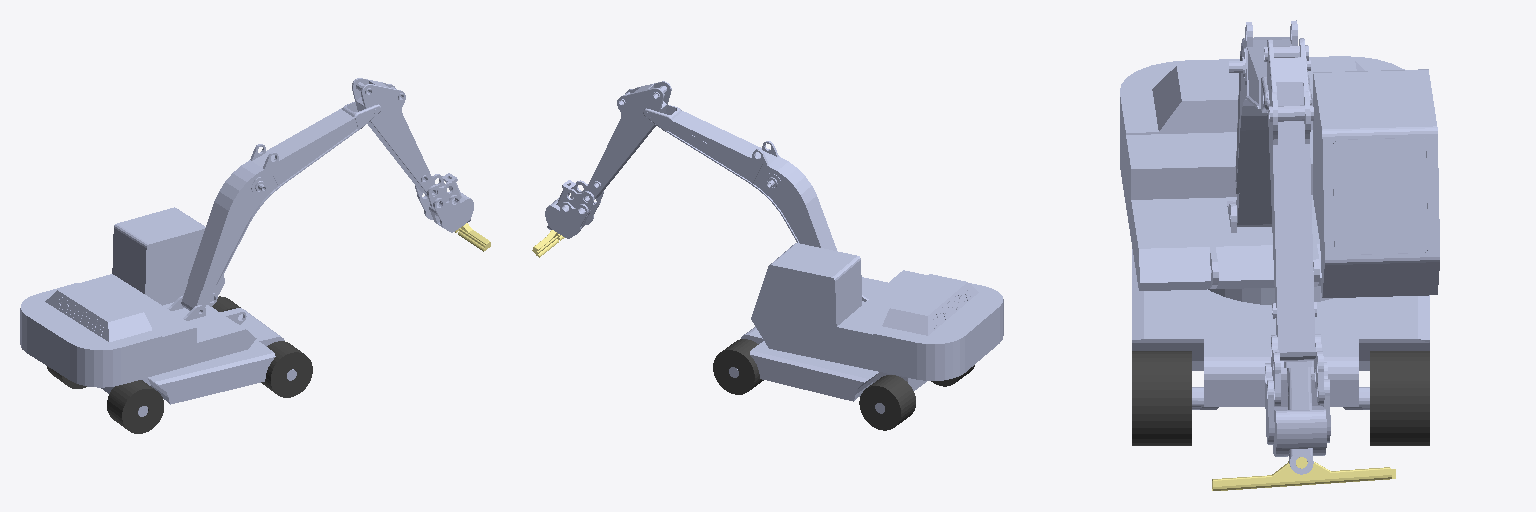
--- What the picture shows (computed from the rendered views, not written in the file) ---
3 views of the same robot in one strip: view 1: azimuth 30°, elevation 25°; view 2: azimuth 150°, elevation 25°; view 3: azimuth 270°, elevation 25° (orthographic).
Model excavator_03 with 12 links and 11 joints (9 revolute, 1 prismatic, 1 fixed), rooted at dummy_link, posed every joint at zero.
Visible links, largest first — view 1: upper_structure_link, arm_link_1, arm_link_2, base_link, BR_wheel_link, FR_wheel_link, terracore_link_1; view 2: upper_structure_link, arm_link_1, arm_link_2, base_link, BL_wheel_link, FL_wheel_link, terracore_link_1; view 3: upper_structure_link, base_link, arm_link_2, arm_link_1, FR_wheel_link, FL_wheel_link, terracore_link_3, terracore_link_1, terracore_link_2.
Link boxes in pixels (left/top/right/bottom): upper_structure_link: left=20, top=207, right=256, bottom=387; arm_link_1: left=181, top=102, right=381, bottom=312; arm_link_2: left=352, top=78, right=461, bottom=229; base_link: left=101, top=307, right=296, bottom=416; BR_wheel_link: left=107, top=380, right=163, bottom=433; FR_wheel_link: left=261, top=341, right=312, bottom=397; terracore_link_1: left=429, top=192, right=473, bottom=232; upper_structure_link: left=751, top=243, right=1003, bottom=380; arm_link_1: left=643, top=105, right=836, bottom=250; arm_link_2: left=559, top=81, right=671, bottom=235; base_link: left=729, top=326, right=926, bottom=413; BL_wheel_link: left=859, top=375, right=915, bottom=430; FL_wheel_link: left=713, top=339, right=763, bottom=394; terracore_link_1: left=545, top=197, right=588, bottom=238; upper_structure_link: left=1120, top=56, right=1439, bottom=297; base_link: left=1132, top=249, right=1429, bottom=409; arm_link_2: left=1262, top=38, right=1330, bottom=444; arm_link_1: left=1229, top=20, right=1311, bottom=226; FR_wheel_link: left=1132, top=351, right=1191, bottom=445; FL_wheel_link: left=1370, top=351, right=1429, bottom=445; terracore_link_3: left=1212, top=457, right=1395, bottom=490; terracore_link_1: left=1266, top=406, right=1326, bottom=456; terracore_link_2: left=1284, top=360, right=1313, bottom=474.
Size in the robot's own frame: 8.17 by 2.68 by 4.69 metres.
11 mesh visuals loaded from 11 distinct referenced files (11 binary STL).

robot.urdf — excavator_03:
<robot
  name="excavator_03">

  <link name="dummy_link">
    <inertial>
      <mass value="0.001"/>
      <origin xyz="0 0 0" rpy="0 0 0"/>
      <inertia ixx="0.000001" iyy="0.000001" izz="0.000001" ixy="0.0" ixz="0.0" iyz="0.0"/>
    </inertial>
    <visual>
      <geometry>
        <box size="0.01 0.01 0.01"/>
      </geometry>
    </visual>
  </link>
  <!-- 연결된 Joint -->
  <joint name="dummy_joint" type="fixed">
    <parent link="dummy_link"/>
    <child link="base_link"/>
    <origin xyz="0 0 0" rpy="0 0 0"/>
  </joint>


  <link
    name="base_link">
    <inertial>
      <origin
        xyz="-0.0176394134348032 -2.22044604925031E-16 0.223393094305927"
        rpy="0 0 0" />
      <mass
        value="2977.95974309184" />
      <inertia
        ixx="1276.12617007638"
        ixy="-0.00023663061182333"
        ixz="24.4034518650965"
        iyy="2010.57224189183"
        iyz="1.25333356742187E-14"
        izz="3160.89364460489" />
    </inertial>
    <visual>
      <origin
        xyz="0 0 0"
        rpy="0 0 0" />
      <geometry>
        <mesh filename="package://HuRo/resource/meshes/base_link.STL">
          <uri>model://meshes/base_link.STL</uri>
        </mesh>
      </geometry>
      <material
        name="">
        <color
          rgba="0.792156862745098 0.819607843137255 0.933333333333333 1" />
      </material>
    </visual>
    <collision>
      <origin
        xyz="0 0 0"
        rpy="0 0 0" />
      <geometry>
        <mesh filename="package://HuRo/resource/meshes/base_link.STL">
          <uri>model://meshes/base_link.STL</uri>
        </mesh>
      </geometry>
    </collision>
  </link>

  <link
    name="FR_wheel_link">
    <inertial>
      <origin
        xyz="1.06581410364015E-14 7.99360577730113E-15 -0.76097530865572"
        rpy="0 0 0" />
      <mass
        value="235.619449019234" />
      <inertia
        ixx="14.9225651045515"
        ixy="8.88178419700125E-16"
        ixz="-7.59392548843607E-14"
        iyy="14.9225651045515"
        iyz="-5.59552404411079E-14"
        izz="20.0276531666349" />
    </inertial>
    <visual>
      <origin
        xyz="0 0 0"
        rpy="0 0 0" />
      <geometry>
        <mesh filename="package://HuRo/resource/meshes/FR_wheel_link.STL">
          <uri>model://meshes/FR_wheel_link.STL</uri>
        </mesh>
      </geometry>
      <material
        name="">
        <color
          rgba="0.333333333333333 0.333333333333333 0.333333333333333 1" />
      </material>
    </visual>
    <collision>
      <origin
        xyz="0 0 0"
        rpy="0 0 0" />
      <geometry>
        <mesh filename="package://HuRo/resource/meshes/FR_wheel_link.STL">
          <uri>model://meshes/FR_wheel_link.STL</uri>
        </mesh>
      </geometry>
      <surface>
        <friction>
          <ode>
            <mu>1.0</mu> <!-- 접촉면의 마찰 계수 -->
            <mu2>1.0</mu2>
          </ode>
        </friction>
      </surface>
    </collision>
  </link>
  <joint
    name="FR_wheel_joint"
    type="revolute">
    <origin
      xyz="1.4 -0.236524691344278 -0.0250000000000013"
      rpy="-1.57079632679487 -1.21081594575034 0" />
    <parent
      link="base_link" />
    <child
      link="FR_wheel_link" />
    <axis
      xyz="0 0 1" />
    <limit
      lower="-3.14"
      upper="3.14"
      effort="10"
      velocity="0.5" />
  </joint>
  <link
    name="FL_wheel_link">
    <inertial>
      <origin
        xyz="-9.76996261670138E-15 -2.04281036531029E-14 0.810346676302963"
        rpy="0 0 0" />
      <mass
        value="235.619449019234" />
      <inertia
        ixx="14.9225651045515"
        ixy="1.33226762955019E-15"
        ixz="-5.99520433297585E-14"
        iyy="14.9225651045515"
        iyz="-1.29674049276218E-13"
        izz="20.0276531666349" />
    </inertial>
    <visual>
      <origin
        xyz="0 0 0"
        rpy="0 0 0" />
      <geometry>
        <mesh filename="package://HuRo/resource/meshes/FL_wheel_link.STL">
          <uri>model://meshes/FL_wheel_link.STL</uri>
        </mesh>
      </geometry>
      <material
        name="">
        <color
          rgba="0.333333333333333 0.333333333333333 0.333333333333333 1" />
      </material>
    </visual>
    <collision>
      <origin
        xyz="0 0 0"
        rpy="0 0 0" />
      <geometry>
        <mesh filename="package://HuRo/resource/meshes/FL_wheel_link.STL">
          <uri>model://meshes/FL_wheel_link.STL</uri>
        </mesh>
      </geometry>
      <surface>
        <friction>
          <ode>
            <mu>1.0</mu> <!-- 접촉면의 마찰 계수 -->
            <mu2>1.0</mu2>
          </ode>
        </friction>
      </surface>
    </collision>
  </link>
  <joint
    name="FL_wheel_joint"
    type="revolute">
    <origin
      xyz="1.4 0.187153323697037 -0.0249999999999993"
      rpy="-1.57079632679491 -0.737979962623443 0" />
    <parent
      link="base_link" />
    <child
      link="FL_wheel_link" />
    <axis
      xyz="0 0 1" />
    <limit
      lower="-3.14"
      upper="3.14"
      effort="10"
      velocity="0.5" />
  </joint>
  <link
    name="BR_wheel_link">
    <inertial>
      <origin
        xyz="-8.43769498715119E-15 1.4432899320127E-15 -0.786060508297315"
        rpy="0 0 0" />
      <mass
        value="235.619449019234" />
      <inertia
        ixx="14.9225651045515"
        ixy="1.77635683940025E-15"
        ixz="5.6399329650958E-14"
        iyy="14.9225651045515"
        iyz="-1.08801856413265E-14"
        izz="20.0276531666349" />
    </inertial>
    <visual>
      <origin
        xyz="0 0 0"
        rpy="0 0 0" />
      <geometry>
        <mesh filename="package://HuRo/resource/meshes/BR_wheel_link.STL">
          <uri>model://meshes/BR_wheel_link.STL</uri>
        </mesh>
      </geometry>
      <material
        name="">
        <color
          rgba="0.333333333333333 0.333333333333333 0.333333333333333 1" />
      </material>
    </visual>
    <collision>
      <origin
        xyz="0 0 0"
        rpy="0 0 0" />
      <geometry>
        <mesh filename="package://HuRo/resource/meshes/BR_wheel_link.STL">
          <uri>model://meshes/BR_wheel_link.STL</uri>
        </mesh>
      </geometry>
      <surface>
        <friction>
          <ode>
            <mu>1.0</mu> <!-- 접촉면의 마찰 계수 -->
            <mu2>1.0</mu2>
          </ode>
        </friction>
      </surface>
    </collision>
  </link>
  <joint
    name="BR_wheel_joint"
    type="revolute">
    <origin
      xyz="-1.4 -0.211439491702686 -0.0250000000000012"
      rpy="1.5707963267949 -0.486234667575469 3.14159265358978" />
    <parent
      link="base_link" />
    <child
      link="BR_wheel_link" />
    <axis
      xyz="0 0 1" />
    <limit
      lower="-3.14"
      upper="3.14"
      effort="10"
      velocity="0.5" />
  </joint>
  <link
    name="BL_wheel_link">
    <inertial>
      <origin
        xyz="1.99840144432528E-15 7.32747196252603E-15 0.80721715568749"
        rpy="0 0 0" />
      <mass
        value="235.619449019234" />
      <inertia
        ixx="14.9225651045515"
        ixy="0"
        ixz="1.4210854715202E-14"
        iyy="14.9225651045515"
        iyz="4.52970994047064E-14"
        izz="20.0276531666349" />
    </inertial>
    <visual>
      <origin
        xyz="0 0 0"
        rpy="0 0 0" />
      <geometry>
        <mesh filename="package://HuRo/resource/meshes/BL_wheel_link.STL">
          <uri>model://meshes/BL_wheel_link.STL</uri>
        </mesh>
      </geometry>
      <material
        name="">
        <color
          rgba="0.333333333333333 0.333333333333333 0.333333333333333 1" />
      </material>
    </visual>
    <collision>
      <origin
        xyz="0 0 0"
        rpy="0 0 0" />
      <geometry>
        <mesh filename="package://HuRo/resource/meshes/BL_wheel_link.STL">
          <uri>model://meshes/BL_wheel_link.STL</uri>
        </mesh>
      </geometry>
      <surface>
        <friction>
          <ode>
            <mu>1.0</mu> <!-- 접촉면의 마찰 계수 -->
            <mu2>1.0</mu2>
          </ode>
        </friction>
      </surface>
    </collision>
  </link>
  <joint
    name="BL_wheel_joint"
    type="revolute">
    <origin
      xyz="-1.4 0.19028284431251 -0.0249999999999993"
      rpy="-1.57079632679489 -0.901244854643899 0" />
    <parent
      link="base_link" />
    <child
      link="BL_wheel_link" />
    <axis
      xyz="0 0 1" />
    <limit
      lower="-3.14"
      upper="3.14"
      effort="10"
      velocity="0.5" />
  </joint>
  <link
    name="upper_structure_link">
    <inertial>
      <origin
        xyz="-0.495628171385806 0.199231627180777 0.507919121385117"
        rpy="0 0 0" />
      <mass
        value="6481.92731251916" />
      <inertia
        ixx="3995.91515775081"
        ixy="-1380.76403779697"
        ixz="-667.093108887211"
        iyy="7052.09739515952"
        iyz="-527.647337085614"
        izz="9333.21578790062" />
    </inertial>
    <visual>
      <origin
        xyz="0 0 0"
        rpy="0 0 0" />
      <geometry>
        <mesh filename="package://HuRo/resource/meshes/upper_structure_link.STL">
          <uri>model://meshes/upper_structure_link.STL</uri>
        </mesh>
      </geometry>
      <material
        name="">
        <color
          rgba="0.792156862745098 0.819607843137255 0.933333333333333 1" />
      </material>
    </visual>
    <collision>
      <origin
        xyz="0 0 0"
        rpy="0 0 0" />
      <geometry>
        <mesh filename="package://HuRo/resource/meshes/upper_structure_link.STL">
          <uri>model://meshes/upper_structure_link.STL</uri>
        </mesh>
      </geometry>
    </collision>
  </link>
  <joint
    name="upper_structure_joint"
    type="revolute">
    <origin
      xyz="-0.280000000000001 0 0.57"
      rpy="0 0 0.0645666552236237" />
    <parent
      link="base_link" />
    <child
      link="upper_structure_link" />
    <axis
      xyz="0 0 1" />
    <limit
      lower="-3.14"
      upper="3.14"
      effort="10"
      velocity="0.5" />
  </joint>
  <link
    name="arm_link_1">
    <inertial>
      <origin
        xyz="1.30385919507012 1.67494028826151 -6.44985624700389E-05"
        rpy="0 0 0" />
      <mass
        value="687.454885490208" />
      <inertia
        ixx="330.483251699541"
        ixy="-355.1523551969"
        ixz="0.0570624481781721"
        iyy="515.103747246251"
        iyz="0.0326818043979901"
        izz="826.227075500151" />
    </inertial>
    <visual>
      <origin
        xyz="0 0 0"
        rpy="0 0 0" />
      <geometry>
        <mesh filename="package://HuRo/resource/meshes/arm_link_1.STL">
          <uri>model://meshes/arm_link_1.STL</uri>
        </mesh>
      </geometry>
      <material
        name="">
        <color
          rgba="0.792156862745098 0.819607843137255 0.933333333333333 1" />
      </material>
    </visual>
    <collision>
      <origin
        xyz="0 0 0"
        rpy="0 0 0" />
      <geometry>
        <mesh filename="package://HuRo/resource/meshes/arm_link_1.STL">
          <uri>model://meshes/arm_link_1.STL</uri>
        </mesh>
      </geometry>
    </collision>
  </link>
  <joint
    name="arm_joint_1"
    type="revolute">
    <origin
      xyz="0.41575847322771 -0.199499999999765 0.501797993289546"
      rpy="1.5707963267949 0 0" />
    <parent
      link="upper_structure_link" />
    <child
      link="arm_link_1" />
    <axis
      xyz="0 0 -1" />
    <limit
      lower="-1.57"
      upper="1.57"
      effort="10"
      velocity="0.5" />
  </joint>
  <link
    name="arm_link_2">
    <inertial>
      <origin
        xyz="-0.0977328960560095 -0.877040000984263 0.0497820736270529"
        rpy="0 0 0" />
      <mass
        value="343.538558289812" />
      <inertia
        ixx="137.01766228365"
        ixy="7.20856006745739"
        ixz="-1.19462546095406E-05"
        iyy="9.52875791066767"
        iyz="4.86316846619594E-05"
        izz="141.153966113379" />
    </inertial>
    <visual>
      <origin
        xyz="0 0 0"
        rpy="0 0 0" />
      <geometry>
        <mesh filename="package://HuRo/resource/meshes/arm_link_2.STL">
          <uri>model://meshes/arm_link_2.STL</uri>
        </mesh>
      </geometry>
      <material
        name="">
        <color
          rgba="0.792156862745098 0.819607843137255 0.933333333333333 1" />
      </material>
    </visual>
    <collision>
      <origin
        xyz="0 0 0"
        rpy="0 0 0" />
      <geometry>
        <mesh filename="package://HuRo/resource/meshes/arm_link_2.STL">
          <uri>model://meshes/arm_link_2.STL</uri>
        </mesh>
      </geometry>
    </collision>
  </link>
  <joint
    name="arm_joint_2"
    type="revolute">
    <origin
      xyz="3.48115241901566 2.69101799242997 0.0499467148909045"
      rpy="-3.14159265358977 0 -2.58347296707543" />
    <parent
      link="arm_link_1" />
    <child
      link="arm_link_2" />
    <axis
      xyz="0 0 1" />
    <limit
      lower="-1.57"
      upper="1.57"
      effort="10"
      velocity="0.5" />
  </joint>

  <link
    name="terracore_link_1">
    <inertial>
      <origin
        xyz="0.163319368242993 -0.0734336809083698 -0.0466967148909148"
        rpy="0 0 0" />
      <mass
        value="70.6489303229103" />
      <inertia
        ixx="2.41917612831426"
        ixy="-0.113666699504327"
        ixz="1.34336985979644E-14"
        iyy="3.36293017702126"
        iyz="1.11022302462516E-15"
        izz="2.9227540447987" />
    </inertial>
    <visual>
      <origin
        xyz="0 0 0"
        rpy="0 0 0" />
      <geometry>
        <mesh filename="package://HuRo/resource/meshes/terracore_link_1.STL">
          <uri>model://meshes/terracore_link_1.STL</uri>
        </mesh>
      </geometry>
      <material
        name="">
        <color
          rgba="0.792156862745098 0.819607843137255 0.933333333333333 1" />
      </material>
    </visual>
    <collision>
      <origin
        xyz="0 0 0"
        rpy="0 0 0" />
      <geometry>
        <mesh filename="package://HuRo/resource/meshes/terracore_link_1.STL">
          <uri>model://meshes/terracore_link_1.STL</uri>
        </mesh>
      </geometry>
    </collision>
  </link>
  <joint
    name="terracore_joint_1"
    type="revolute">
    <origin
      xyz="-0.00732659914483857 -2.69580811750572 0"
      rpy="-3.14159265358977 0 -2.95088405645385" />
    <parent
      link="arm_link_2" />
    <child
      link="terracore_link_1" />
    <axis
      xyz="0 0 1" />
    <limit
      lower="-1.57"
      upper="1.57"
      effort="10"
      velocity="0.5" />
  </joint>
  <link
    name="terracore_link_2">
    <inertial>
      <origin
        xyz="-8.0579416561477E-07 0.127815290972917 -6.41948365576184E-08"
        rpy="0 0 0" />
      <mass
        value="14.5393171563633" />
      <inertia
        ixx="1.21442921377524"
        ixy="1.86379944251518E-06"
        ixz="-3.21005307335476E-08"
        iyy="0.0740910012945118"
        iyz="3.85524672012749E-08"
        izz="1.17157376611303" />
    </inertial>
    <visual>
      <origin
        xyz="0 0 0"
        rpy="0 0 0" />
      <geometry>
        <mesh filename="package://HuRo/resource/meshes/terracore_link_2.STL">
          <uri>model://meshes/terracore_link_2.STL</uri>
        </mesh>
      </geometry>
      <material
        name="">
        <color
          rgba="0.792156862745098 0.819607843137255 0.933333333333333 1" />
      </material>
    </visual>
    <collision>
      <origin
        xyz="0 0 0"
        rpy="0 0 0" />
      <geometry>
        <mesh filename="package://HuRo/resource/meshes/terracore_link_2.STL">
          <uri>model://meshes/terracore_link_2.STL</uri>
        </mesh>
      </geometry>
    </collision>
  </link>
  <joint
    name="terracore_joint_2"
    type="prismatic">
    <origin
      xyz="0.34 -0.05 -0.046697"
      rpy="-3.1416 0 -3.1416" />
    <parent
      link="terracore_link_1" />
    <child
      link="terracore_link_2" />
    <axis
      xyz="0 1 0" />
    <limit
      lower="-0.35"
      upper="0.05"
      effort="10"
      velocity="0.5" />
  </joint>
  <link
    name="terracore_link_3">
    <inertial>
      <origin
        xyz="0.0428273785511304 -0.129445543518196 -0.0713558049426748"
        rpy="0 0 0" />
      <mass
        value="27.9646671520689" />
      <inertia
        ixx="0.123832790404504"
        ixy="0.00161840901818255"
        ixz="0.00248958926004198"
        iyy="3.13327763134743"
        iyz="-0.0122120828432704"
        izz="3.20208095781915" />
    </inertial>
    <visual>
      <origin
        xyz="0 0 0"
        rpy="0 0 0" />
      <geometry>
        <mesh filename="package://HuRo/resource/meshes/terracore_link_3.STL">
          <uri>model://meshes/terracore_link_3.STL</uri>
        </mesh>
      </geometry>
      <material
        name="">
        <color
          rgba="1 0.964705882352941 0.654901960784314 1" />
      </material>
    </visual>
    <collision>
      <origin
        xyz="0 0 0"
        rpy="0 0 0" />
      <geometry>
        <mesh filename="package://HuRo/resource/meshes/terracore_link_3.STL">
          <uri>model://meshes/terracore_link_3.STL</uri>
        </mesh>
      </geometry>
    </collision>
  </link>
  <joint
    name="terracore_joint_3"
    type="revolute">
    <origin
      xyz="0.0499999999999847 -0.282002441572214 0"
      rpy="-1.57079632679348 -1.53015106159802 1.57079632679343" />
    <parent
      link="terracore_link_2" />
    <child
      link="terracore_link_3" />
    <axis
      xyz="0 0 1" />
    <limit
      lower="-1.57"
      upper="1.57"
      effort="10"
      velocity="0.5" />
  </joint>



  <!-- transmission -->

  <transmission name="transmission_FR_wheel">
    <type>transmission_interface/SimpleTransmission</type>
    <joint name="FR_wheel_joint">
      <hardwareInterface>hardware_interface/EffortJointInterface</hardwareInterface>
      <hardwareInterface>hardware_interface/PositionJointInterface</hardwareInterface>
    </joint>
    <actuator name="FR_wheel_motor">
      <mechanicalReduction>1.0</mechanicalReduction>
    </actuator>
  </transmission>
  
  <transmission name="transmission_FL_wheel">
    <type>transmission_interface/SimpleTransmission</type>
    <joint name="FL_wheel_joint">
      <hardwareInterface>hardware_interface/EffortJointInterface</hardwareInterface>
      <hardwareInterface>hardware_interface/PositionJointInterface</hardwareInterface>
    </joint>
    <actuator name="FL_wheel_motor">
      <mechanicalReduction>1.0</mechanicalReduction>
    </actuator>
  </transmission>
  
  <transmission name="transmission_BR_wheel">
    <type>transmission_interface/SimpleTransmission</type>
    <joint name="BR_wheel_joint">
      <hardwareInterface>hardware_interface/EffortJointInterface</hardwareInterface>
      <hardwareInterface>hardware_interface/PositionJointInterface</hardwareInterface>
    </joint>
    <actuator name="BR_wheel_motor">
      <mechanicalReduction>1.0</mechanicalReduction>
    </actuator>
  </transmission>
  
  <transmission name="transmission_BL_wheel">
    <type>transmission_interface/SimpleTransmission</type>
    <joint name="BL_wheel_joint">
      <hardwareInterface>hardware_interface/EffortJointInterface</hardwareInterface>
      <hardwareInterface>hardware_interface/PositionJointInterface</hardwareInterface>
    </joint>
    <actuator name="BL_wheel_motor">
      <mechanicalReduction>1.0</mechanicalReduction>
    </actuator>
  </transmission>
  
  <transmission name="transmission_upper_structure">
    <type>transmission_interface/SimpleTransmission</type>
    <joint name="upper_structure_joint">
      <hardwareInterface>hardware_interface/EffortJointInterface</hardwareInterface>
      <hardwareInterface>hardware_interface/PositionJointInterface</hardwareInterface>
    </joint>
    <actuator name="upper_structure_motor">
      <mechanicalReduction>1.0</mechanicalReduction>
    </actuator>
  </transmission>
  
  <transmission name="transmission_arm_1">
    <type>transmission_interface/SimpleTransmission</type>
    <joint name="arm_joint_1">
      <hardwareInterface>hardware_interface/EffortJointInterface</hardwareInterface>
      <hardwareInterface>hardware_interface/PositionJointInterface</hardwareInterface>
    </joint>
    <actuator name="arm_1_motor">
      <mechanicalReduction>1.0</mechanicalReduction>
    </actuator>
  </transmission>
  
  <transmission name="transmission_arm_2">
    <type>transmission_interface/SimpleTransmission</type>
    <joint name="arm_joint_2">
      <hardwareInterface>hardware_interface/EffortJointInterface</hardwareInterface>
      <hardwareInterface>hardware_interface/PositionJointInterface</hardwareInterface>
    </joint>
    <actuator name="arm_2_motor">
      <mechanicalReduction>1.0</mechanicalReduction>
    </actuator>
  </transmission>
  
  <transmission name="transmission_terracore_1">
    <type>transmission_interface/SimpleTransmission</type>
    <joint name="terracore_joint_1">
      <hardwareInterface>hardware_interface/EffortJointInterface</hardwareInterface>
      <hardwareInterface>hardware_interface/PositionJointInterface</hardwareInterface>
    </joint>
    <actuator name="terracore_1_motor">
      <mechanicalReduction>1.0</mechanicalReduction>
    </actuator>
  </transmission>
  
  <transmission name="transmission_terracore_2">
    <type>transmission_interface/SimpleTransmission</type>
    <joint name="terracore_joint_2">
      <hardwareInterface>hardware_interface/EffortJointInterface</hardwareInterface>
      <hardwareInterface>hardware_interface/PositionJointInterface</hardwareInterface>
    </joint>
    <actuator name="terracore_2_motor">
      <mechanicalReduction>1.0</mechanicalReduction>
    </actuator>
  </transmission>
  
  <transmission name="transmission_terracore_3">
    <type>transmission_interface/SimpleTransmission</type>
    <joint name="terracore_joint_3">
      <hardwareInterface>hardware_interface/EffortJointInterface</hardwareInterface>
      <hardwareInterface>hardware_interface/PositionJointInterface</hardwareInterface>
    </joint>
    <actuator name="terracore_3_motor">
      <mechanicalReduction>1.0</mechanicalReduction>
    </actuator>
  </transmission>



  <!-- ROS2 Control -->
  <ros2_control name="IgnitionSystem" type="system">
    <hardware>
      <plugin>ign_ros2_control/IgnitionSystem</plugin>
    </hardware>
    <joint name="FR_wheel_joint">
      <command_interface name="effort"/>
      <state_interface name="position"/>
    </joint>
    <joint name="FL_wheel_joint">
      <command_interface name="effort"/>
      <state_interface name="position"/>
    </joint>
    <joint name="BR_wheel_joint">
      <command_interface name="effort"/>
      <state_interface name="position"/>
    </joint>
    <joint name="BL_wheel_joint">
      <command_interface name="effort"/>
      <state_interface name="position"/>
    </joint>
    <joint name="upper_structure_joint">
      <command_interface name="effort"/>
      <state_interface name="position"/>
    </joint>
    <joint name="arm_joint_1">
      <command_interface name="effort"/>
      <state_interface name="position"/>
    </joint>
    <joint name="arm_joint_2">
      <command_interface name="effort"/>
      <state_interface name="position"/>
    </joint>
    <joint name="terracore_joint_1">
      <command_interface name="effort"/>
      <state_interface name="position"/>
    </joint>
    <joint name="terracore_joint_2">
      <command_interface name="effort"/>
      <state_interface name="position"/>
    </joint>
    <joint name="terracore_joint_3">
      <command_interface name="effort"/>
      <state_interface name="position"/>
    </joint>
  </ros2_control>


  <!-- ROS 2 Control 플러그인 -->
  <gazebo>
    <plugin filename="libign_ros2_control-system.so" name="ign_ros2_control::IgnitionROS2ControlPlugin">
      <robot_param>robot_description</robot_param>
      <robot_param_node>robot_state_publisher</robot_param_node>
      <parameters>[local-path]/Yonsei_ws/install/HuRo/share/HuRo/config/torque_control_config.yaml</parameters>
      <controller_manager_name>controller_manager</controller_manager_name>
      <topics>
        <topic name="/cmd_effort"/>
      </topics>
    </plugin>
  </gazebo>
</robot>
